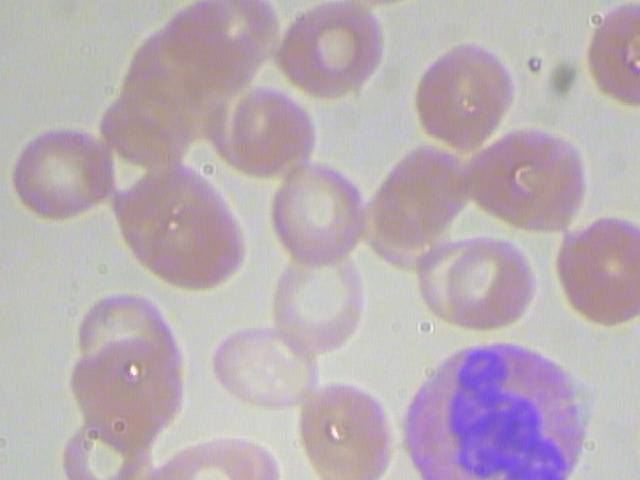RBC: (111, 158, 250, 296), (457, 124, 593, 242), (264, 238, 371, 360), (408, 40, 521, 152), (286, 375, 405, 480), (261, 161, 369, 266), (8, 119, 117, 222), (213, 77, 322, 180), (276, 1, 385, 103), (203, 318, 321, 409), (550, 218, 640, 326), (441, 234, 540, 332)
